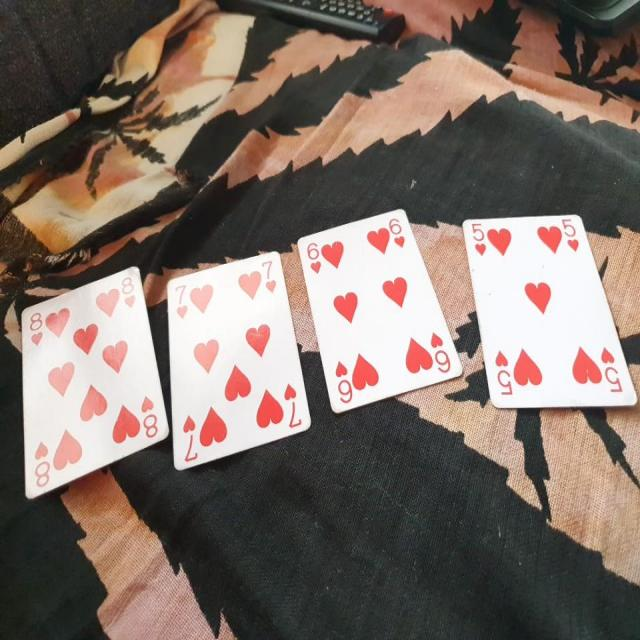5 Hearts: (462, 201, 639, 430)
6 Hearts: (296, 204, 461, 418)
7 Hearts: (157, 245, 314, 476)
8 Hearts: (15, 265, 168, 511)
